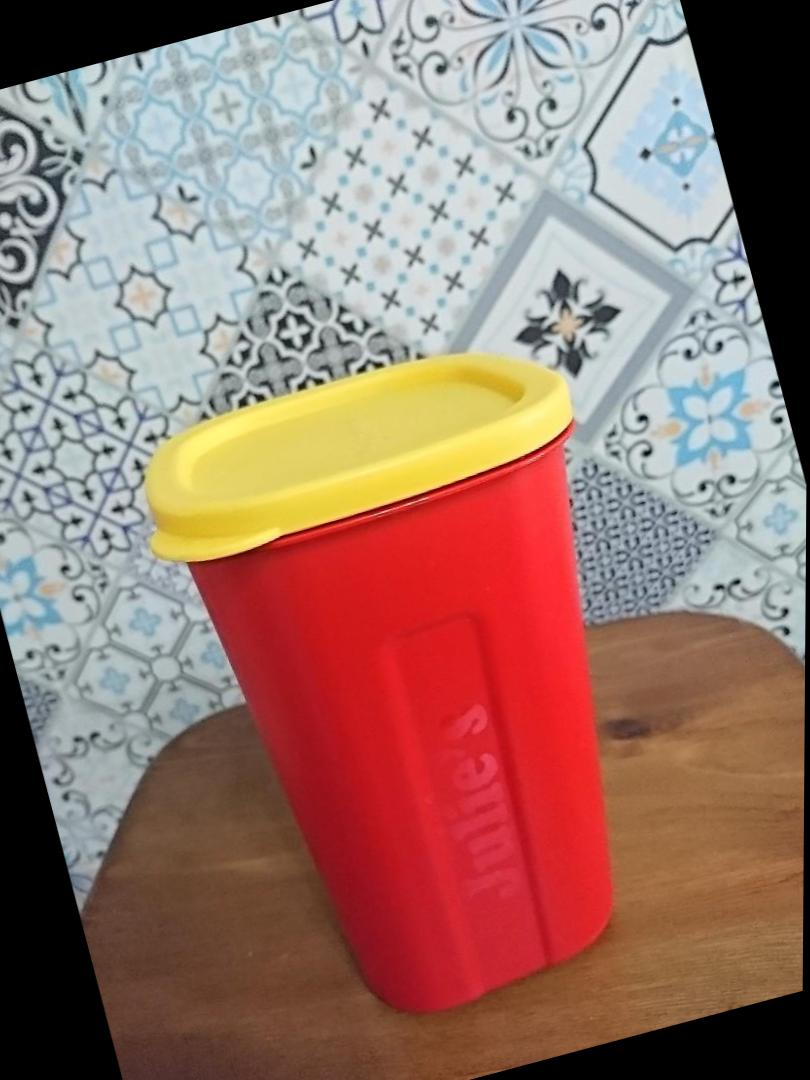plastic: (99, 354, 611, 1075)
